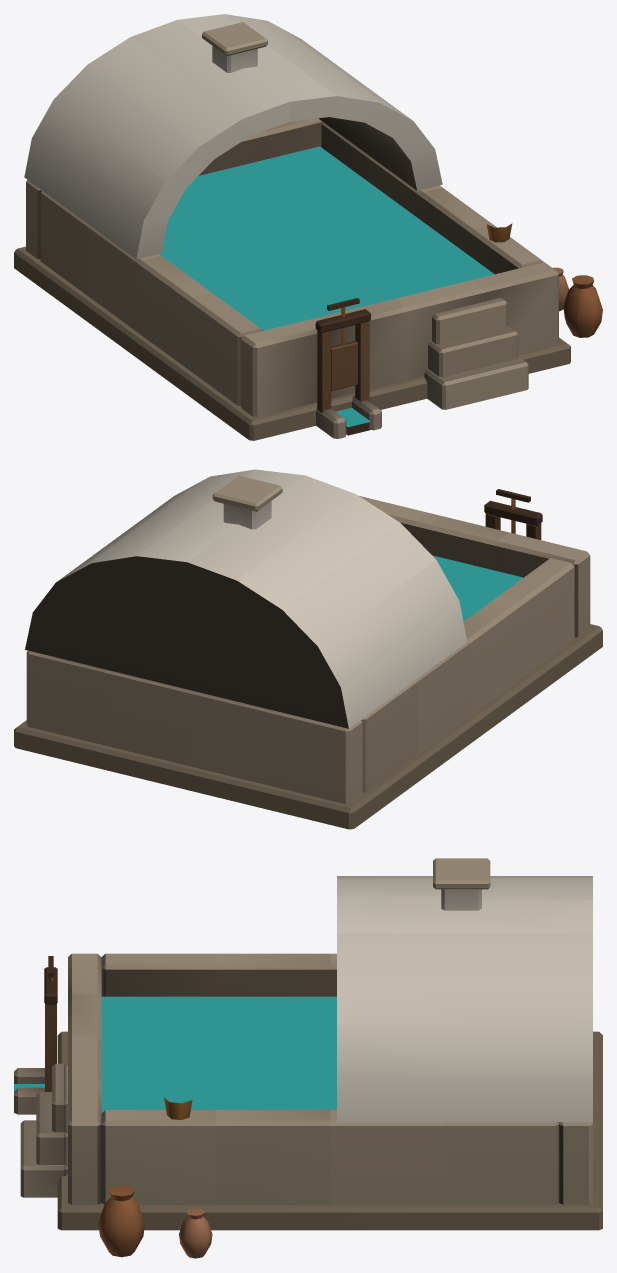
Rendered from citerne.glb.
3 renders of one model, top to bottom at view 1: azimuth 30°, elevation 25°; view 2: azimuth 150°, elevation 25°; view 3: azimuth 270°, elevation 25°, orthographic. The views are drawn at different scales.
Parts seen in each view (by area): view 1: citerne, eau; view 2: citerne, eau; view 3: citerne, eau.
Boxes of the visible parts, bbox=[...] form: citerne: bbox=[14, 14, 602, 440]; eau: bbox=[159, 146, 494, 427]; citerne: bbox=[14, 469, 602, 829]; eau: bbox=[432, 555, 523, 621]; citerne: bbox=[14, 858, 602, 1258]; eau: bbox=[14, 996, 336, 1112].
Bounding box in the file's own units: 1.48 × 0.89 × 1.75.
